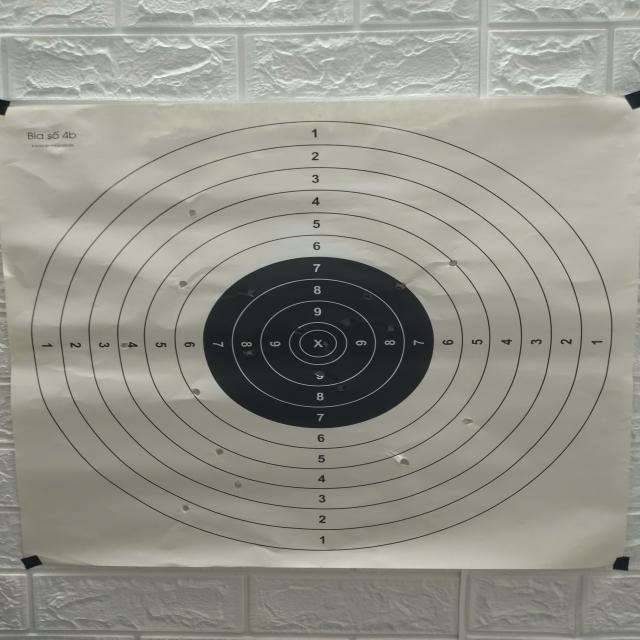bullet: (397, 458, 410, 466), (342, 316, 352, 326), (191, 388, 200, 397), (462, 418, 473, 425), (179, 280, 188, 288), (396, 282, 405, 290), (182, 504, 190, 513), (245, 289, 255, 296), (243, 350, 254, 356), (189, 209, 197, 217), (363, 294, 373, 300), (449, 259, 457, 266), (321, 340, 329, 347), (216, 448, 223, 456), (234, 481, 241, 489), (314, 371, 325, 376), (295, 328, 302, 335), (337, 385, 345, 391), (387, 325, 394, 331)
target: (0, 97, 640, 569)
